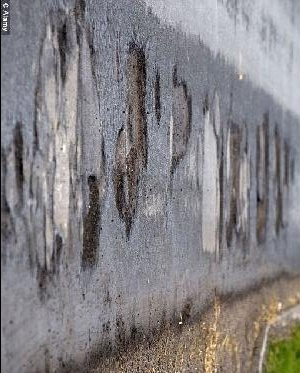pothole: (110, 40, 149, 242), (165, 61, 194, 176), (222, 119, 242, 249), (253, 110, 272, 246), (78, 171, 102, 274), (270, 121, 283, 233), (152, 69, 162, 127)
